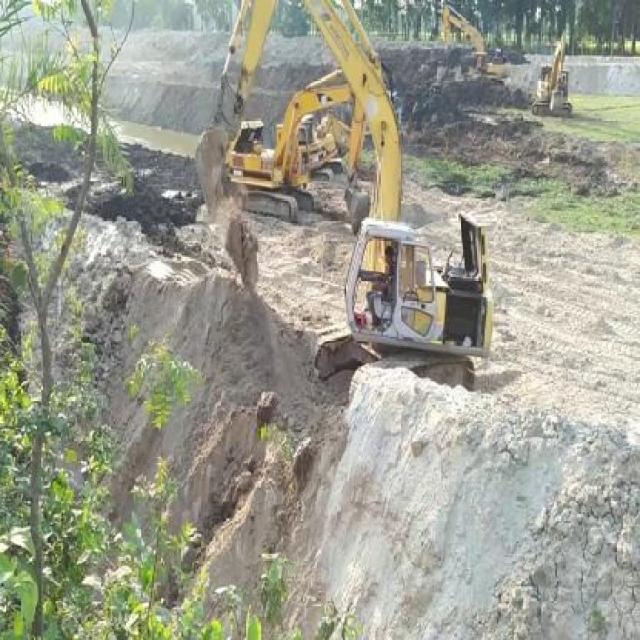Excavator: (193, 0, 493, 395), (440, 0, 511, 88), (531, 27, 574, 118)
